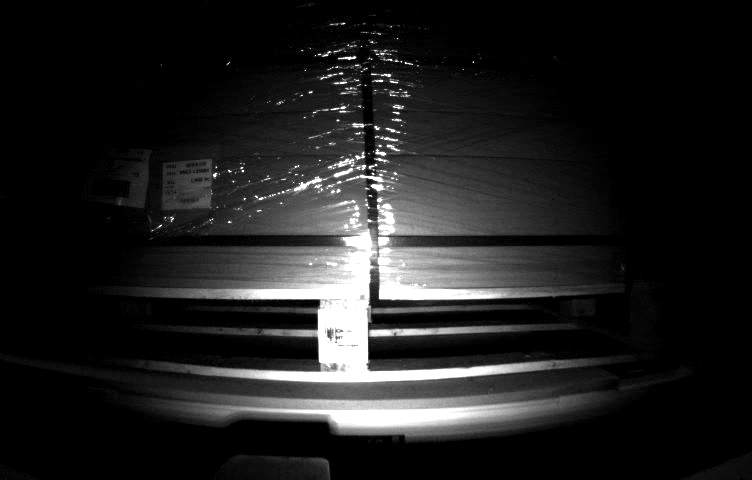True Barcode: (160, 156, 218, 210)
